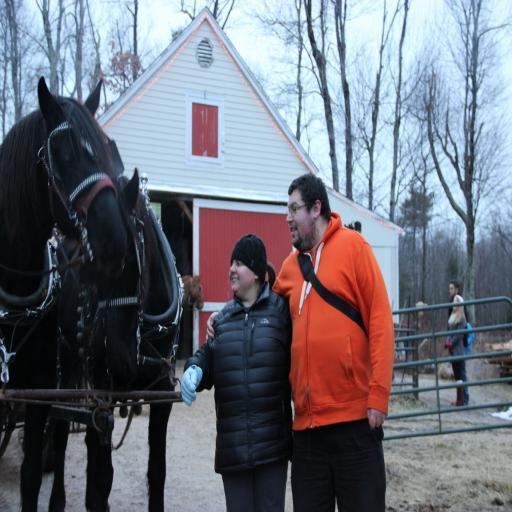horse: (20, 167, 168, 512), (0, 75, 131, 445), (180, 272, 204, 316)
